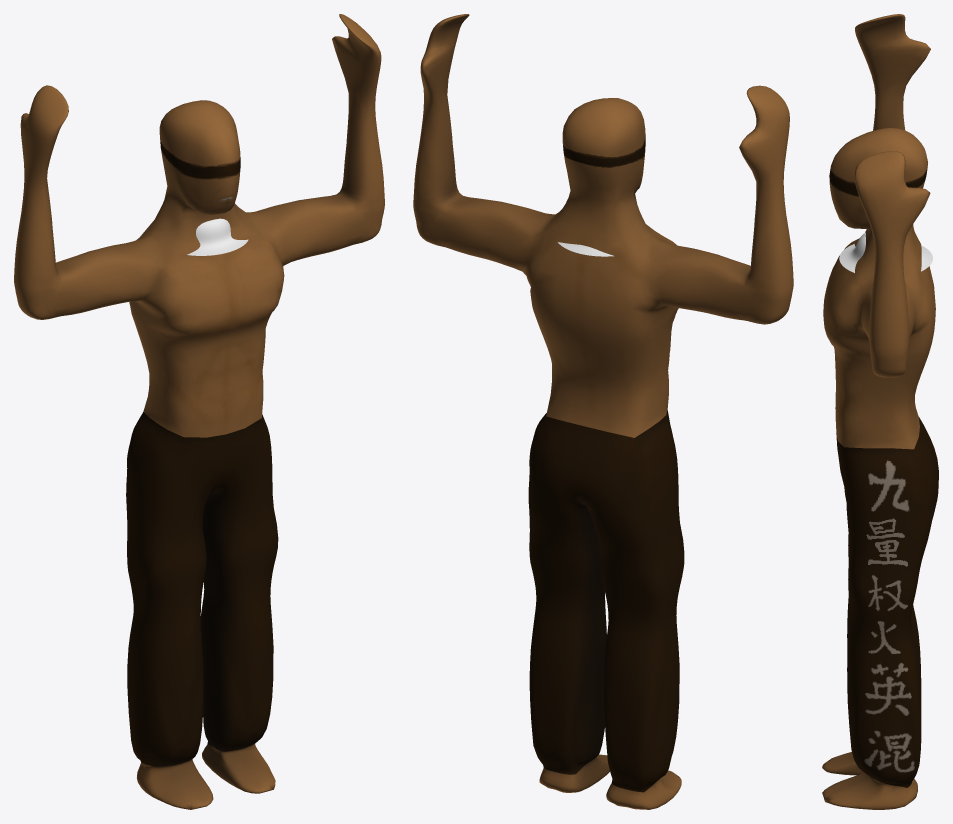
Rendered from gunman.fbx.
The picture shows the model from 3 angles, left to right: view 1: azimuth 30°, elevation 25°; view 2: azimuth 150°, elevation 25°; view 3: azimuth 270°, elevation 25°; orthographic projection. The views are drawn at different scales.
Visible parts, largest first — view 1: Person, Hat; view 2: Person; view 3: Person, Hat.
Part boxes in pixels (x1,y1,x2,y2): Person: (14,14,384,809); Hat: (187,218,248,255); Person: (413,14,793,809); Person: (822,14,938,809); Hat: (839,232,932,272).
Size of the model in its own units: 7.73 by 14.7 by 2.22.
1 material, 1 textured.
